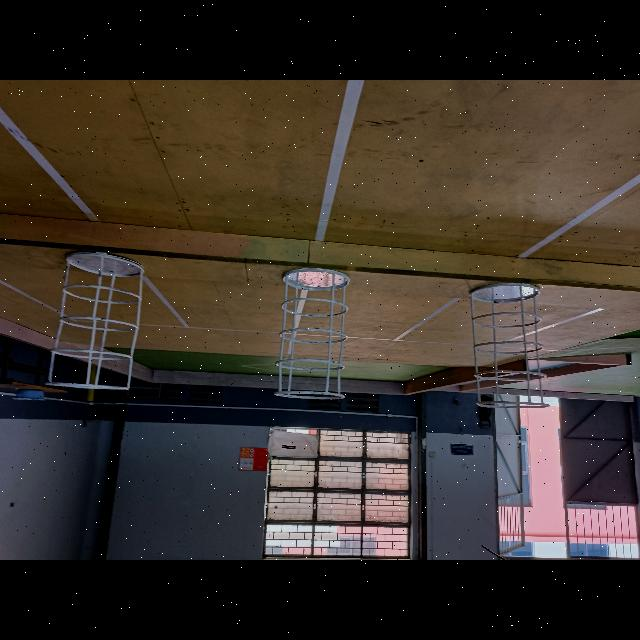S: (47, 249, 145, 391), (464, 280, 547, 412), (274, 264, 350, 403)
